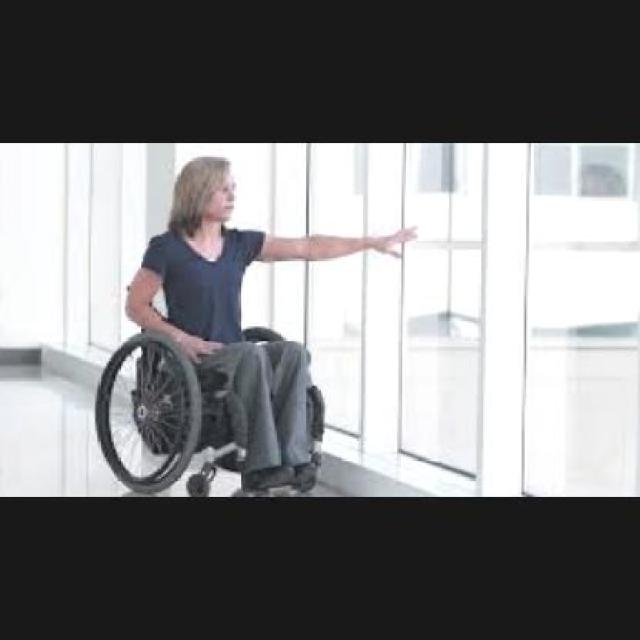wheelchairs: (80, 233, 354, 497)
